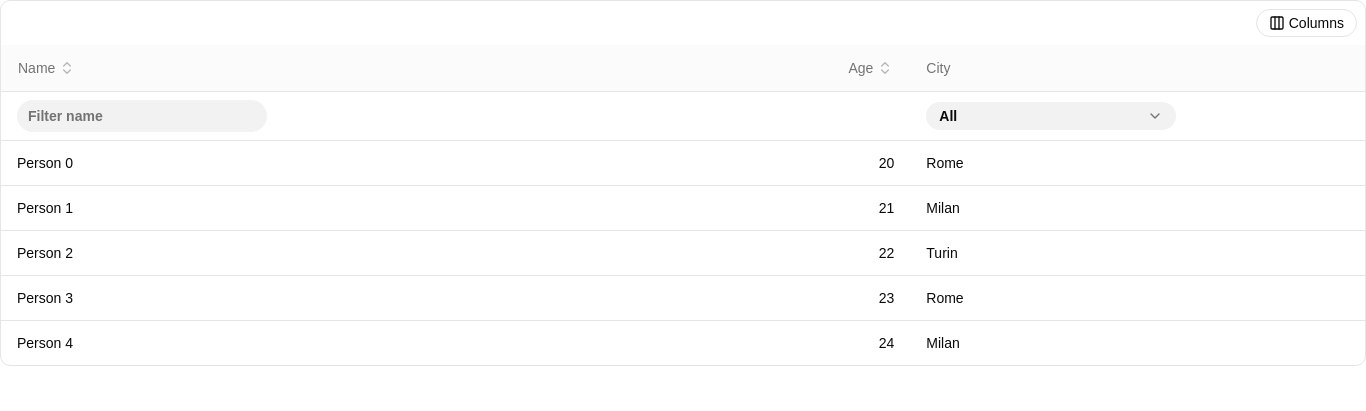
Test: DataGrid — filtering › restores rows when filters are cleared
The image size is (1366, 411).
Type "zzzzz" into the field named "filter by name" at (142, 116), box [17, 100, 267, 132]
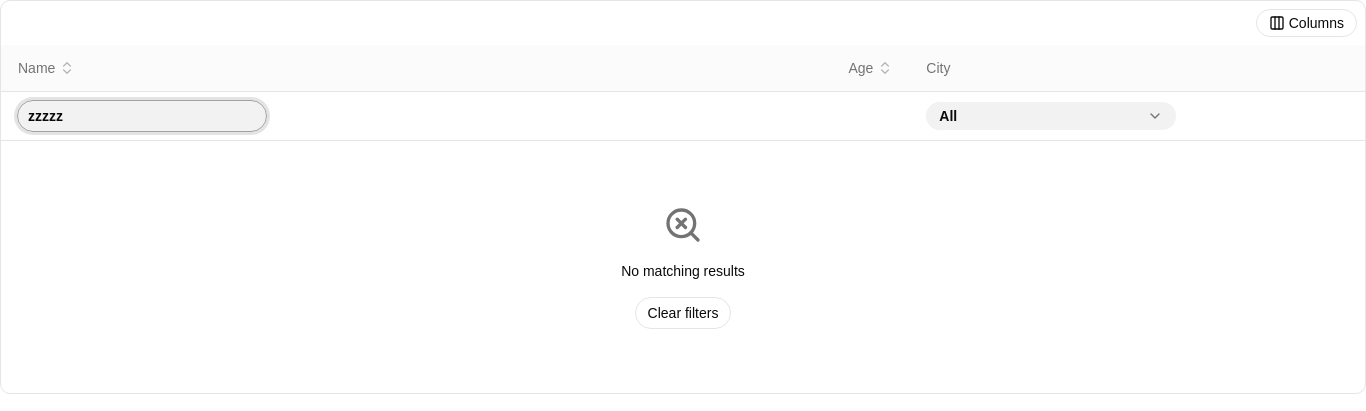
Expected: the button "Clear filters" is shown
Click the button "Clear filters" at (683, 313), box [635, 297, 731, 329]
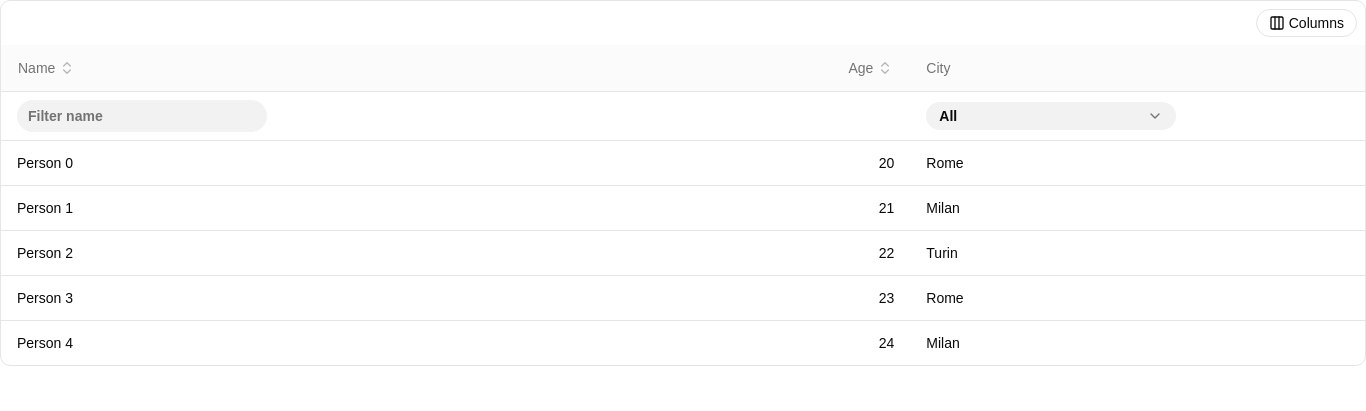
Expected: the text "Person 0" is shown, [1, 140, 456, 186]
